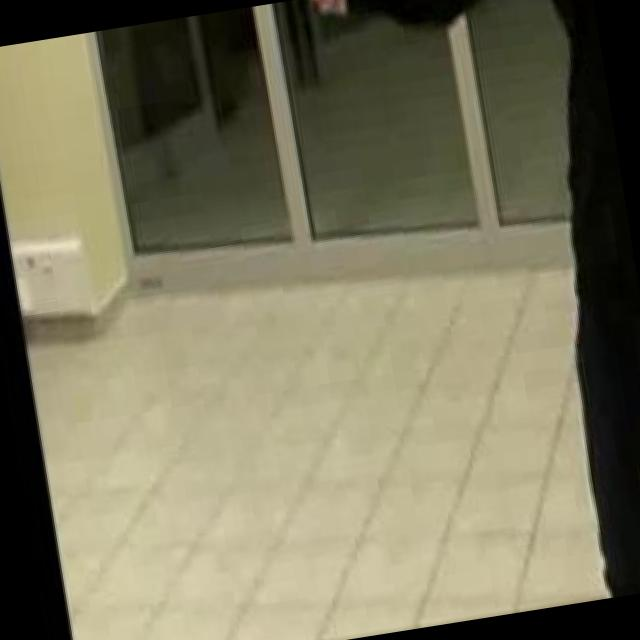Guns: (260, 0, 353, 19)
